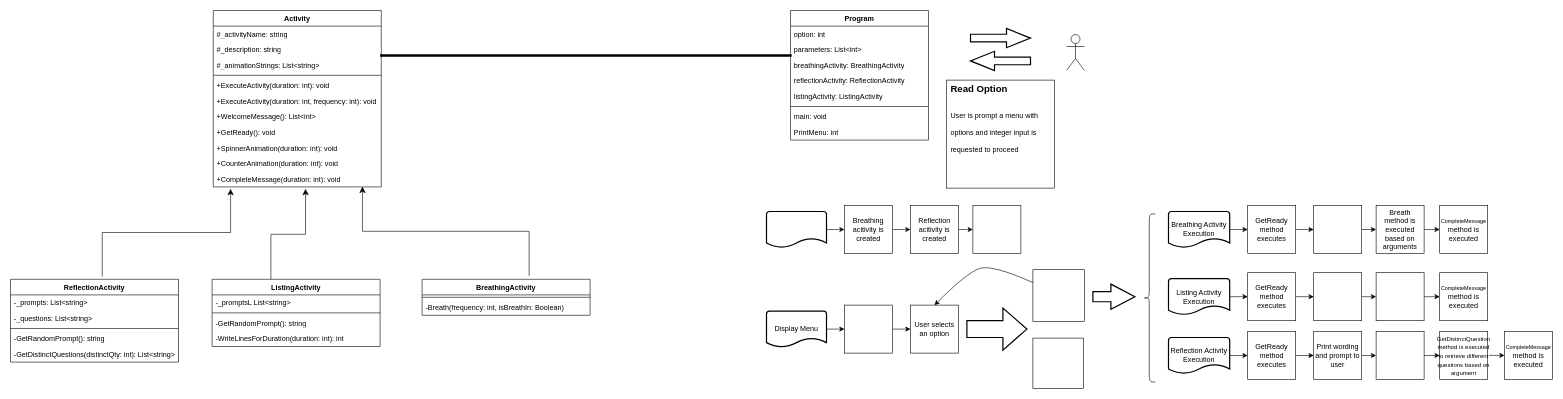
The diagram is 1563 pixels wide and 399 high, and some of its shapes have lost their labels. Here are the shapes that lost their labels. From the top down, the centre of each, then its label:
At point (1075, 52): "Actor".
At point (796, 229): "Objects are created".
At point (996, 229): "Listing acitivity is created".
At point (1337, 229): "End time is calculated to start iteration".
At point (1058, 295): "If press any of the other valida options, ExecuteActivity method is trigerred".
At point (1337, 296): "Print wording and prompt to user along animation".
At point (1400, 296): "WriteLinesForDurration method is executed to get user inputs and count lines".
At point (868, 328): "Menu is displayed".
At point (1057, 363): "If press '4' application will end".
At point (1400, 355): "User is asked to press enter along animation displayed".
